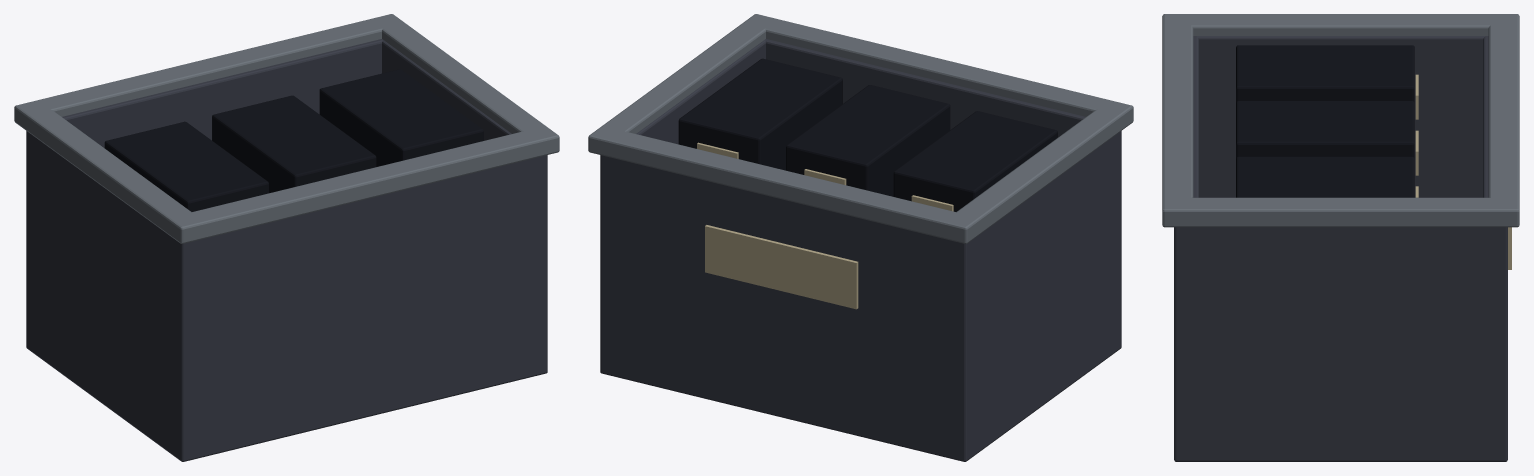
File: plastic_bin.glb
3 renders of one model, left to right at view 1: azimuth 30°, elevation 25°; view 2: azimuth 150°, elevation 25°; view 3: azimuth 270°, elevation 25°, orthographic. The views are drawn at different scales.
Parts seen in each view (by area): view 1: plastic_bin; view 2: plastic_bin; view 3: plastic_bin.
Boxes of the visible parts, x1,y1,x2,y2 form: plastic_bin: [14, 14, 559, 461]; plastic_bin: [588, 14, 1133, 461]; plastic_bin: [1162, 14, 1519, 461].
Bounding box in the file's own units: 0.6 × 0.364 × 0.46.
